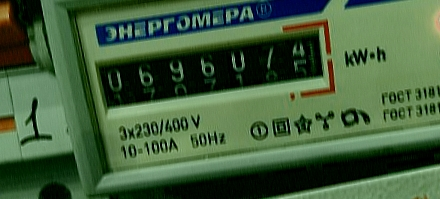0: (105, 64, 126, 91), (230, 44, 249, 72)
4: (291, 35, 308, 57)
5: (294, 57, 310, 77)
6: (136, 59, 157, 86), (199, 48, 218, 77)
7: (261, 41, 280, 69)
9: (168, 54, 188, 82)
screen: (89, 15, 343, 125)
